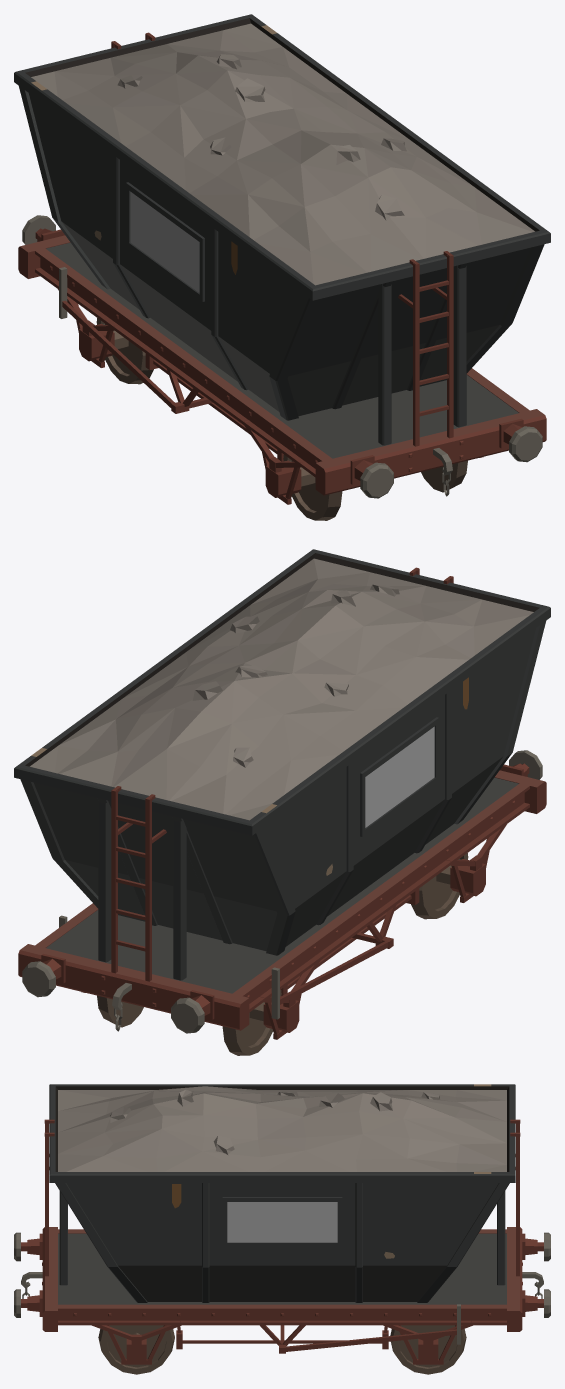
File: hopper-wagon-b4c486.glb
3 renders of one model, top to bottom at view 1: azimuth 30°, elevation 25°; view 2: azimuth 150°, elevation 25°; view 3: azimuth 270°, elevation 25°, orthographic. The views are drawn at different scales.
Visible parts, largest first — view 1: body, load-ballast, wheel-1-set, wheel-2-set; view 2: body, load-ballast, wheel-2-set, wheel-1-set; view 3: body, load-ballast, wheel-1-set, wheel-2-set.
Part boxes in pixels (x1,y1,x2,y2): body: [14, 14, 550, 504]; load-ballast: [31, 23, 534, 285]; wheel-1-set: [283, 455, 467, 520]; wheel-2-set: [96, 318, 153, 384]; body: [14, 549, 550, 1039]; load-ballast: [30, 558, 533, 820]; wheel-2-set: [97, 990, 281, 1055]; wheel-1-set: [411, 853, 468, 919]; body: [14, 1084, 550, 1364]; load-ballast: [58, 1086, 506, 1171]; wheel-1-set: [98, 1325, 174, 1374]; wheel-2-set: [390, 1325, 466, 1374].
Size of the model in its own units: 2.8 by 3.72 by 7.
